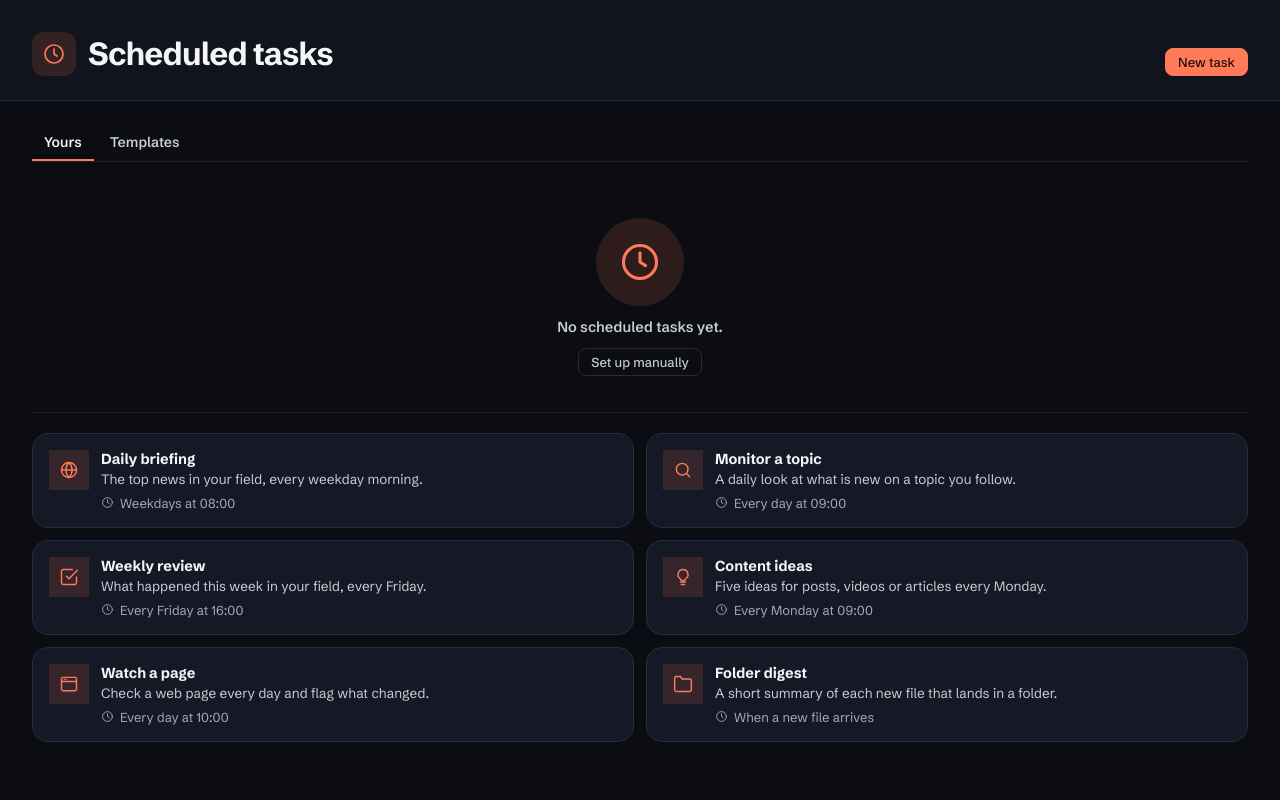
Test: ScheduledPage › opens the task dialog filled in from a template
Step 1. Click the button "Weekly review" → (333, 587), box [32,540,634,635]
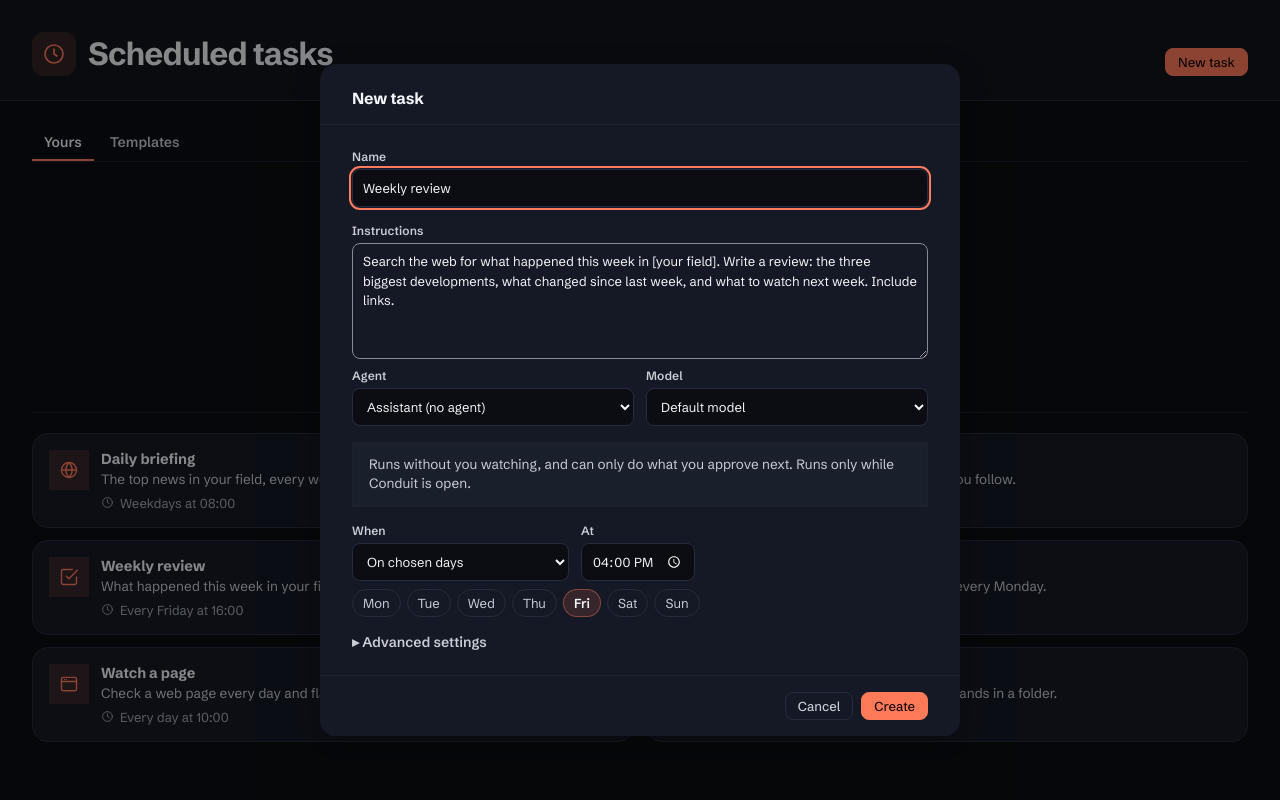
Check: the field labelled "Name" holds "Weekly review", box [352,169,928,207]
Check: the dropdown labelled "When" shows "On chosen days", box [352,543,569,581]
Check: the time field labelled "At" holds "16:00", box [581,543,695,581]
